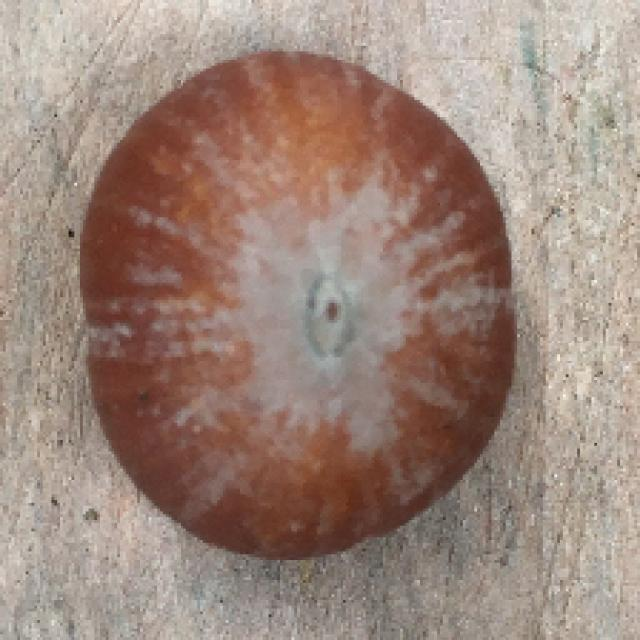QualityHazelnut: (72, 48, 530, 562)
